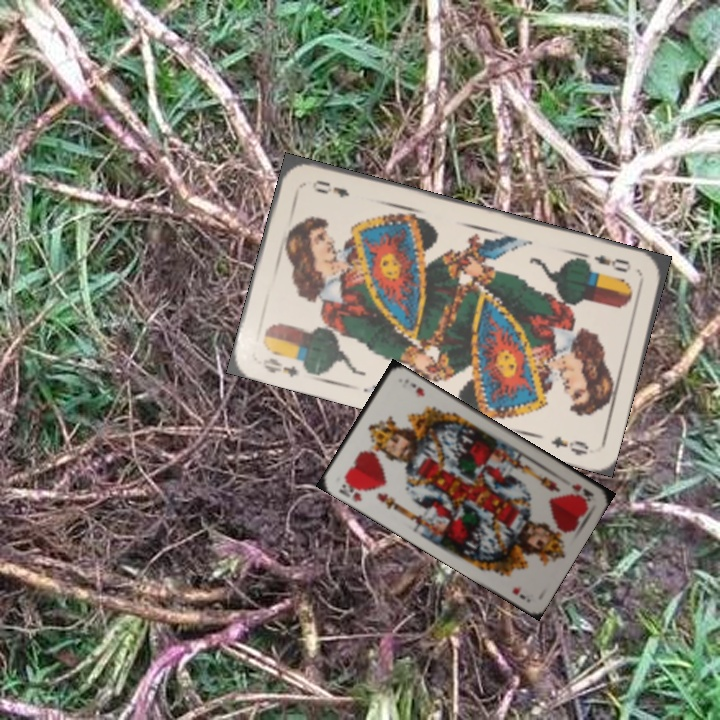EO: (258, 353, 300, 380), (590, 251, 634, 275)
HK: (335, 474, 369, 504), (568, 480, 596, 504)
